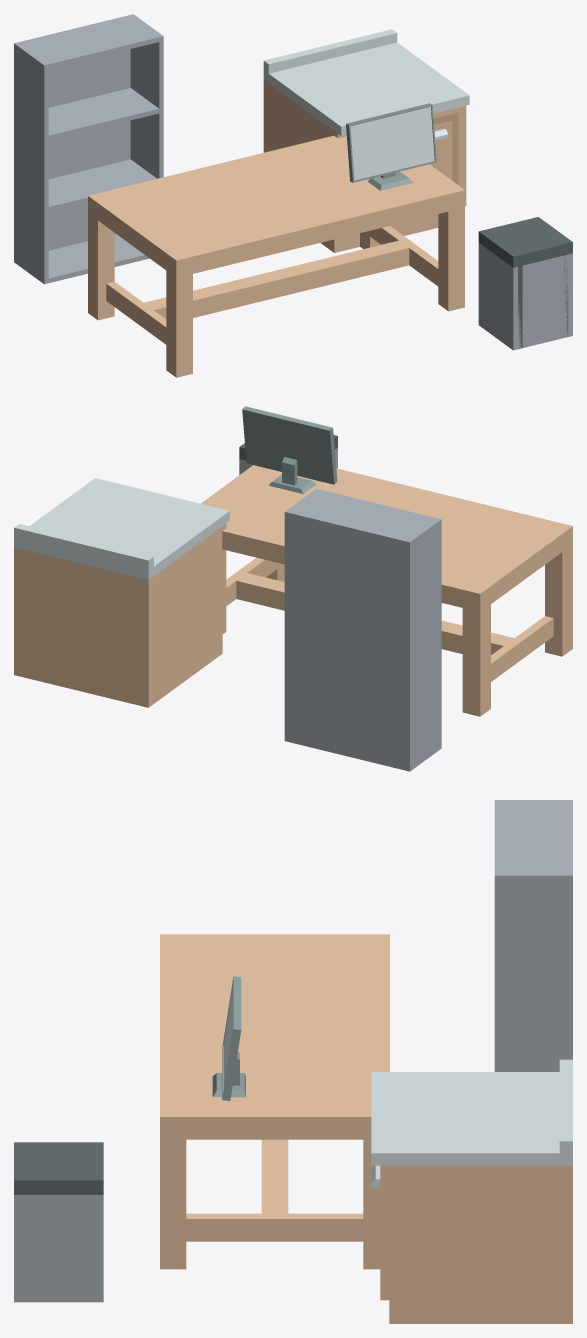
3 views of the same model, one above another, from view 1: azimuth 30°, elevation 25°; view 2: azimuth 150°, elevation 25°; view 3: azimuth 270°, elevation 25° (orthographic). The views are drawn at different scales.
Parts seen in each view (by area): view 1: table_green__table(Clone), cabinet_blue__kitchenCabinet(Clone), shelf_orange__shelf_orange back, shelf_orange__shelf_orange side_l, bin_gray__bin_gray shell, monitor_gray__computerScreen(Clone), shelf_orange__shelf_orange side_r, shelf_orange__shelf_orange board3, shelf_orange__shelf_orange board2, bin_gray__bin_gray lid, shelf_orange__shelf_orange board1, shelf_orange__shelf_orange board0 (+2 smaller); view 2: cabinet_blue__kitchenCabinet(Clone), table_green__table(Clone), shelf_orange__shelf_orange back, shelf_orange__shelf_orange side_l, monitor_gray__computerScreen(Clone), shelf_orange__shelf_orange board3, shelf_orange__shelf_orange side_r; view 3: table_green__table(Clone), cabinet_blue__kitchenCabinet(Clone), shelf_orange__shelf_orange side_r, bin_gray__bin_gray shell, shelf_orange__shelf_orange board3, bin_gray__bin_gray lid, monitor_gray__computerScreen(Clone).
Part boxes in pixels (box(x1,y1,x2,y2)): table_green__table(Clone): box(88, 135, 464, 377); cabinet_blue__kitchenCabinet(Clone): box(263, 29, 469, 252); shelf_orange__shelf_orange back: box(19, 15, 130, 250); shelf_orange__shelf_orange side_l: box(14, 42, 48, 284); bin_gray__bin_gray shell: box(478, 243, 572, 350); monitor_gray__computerScreen(Clone): box(346, 103, 436, 190); shelf_orange__shelf_orange side_r: box(129, 14, 163, 178); shelf_orange__shelf_orange board3: box(20, 16, 159, 68); shelf_orange__shelf_orange board2: box(48, 88, 159, 140); bin_gray__bin_gray lid: box(478, 217, 572, 267); shelf_orange__shelf_orange board1: box(48, 159, 156, 211); shelf_orange__shelf_orange board0: box(48, 234, 149, 282); cabinet_blue__kitchenCabinet(Clone): box(14, 478, 229, 707); table_green__table(Clone): box(201, 465, 572, 716); shelf_orange__shelf_orange back: box(289, 511, 406, 770); shelf_orange__shelf_orange side_l: box(405, 518, 441, 771); monitor_gray__computerScreen(Clone): box(242, 406, 337, 493); shelf_orange__shelf_orange board3: box(291, 490, 436, 539); shelf_orange__shelf_orange side_r: box(284, 489, 320, 741); table_green__table(Clone): box(160, 934, 389, 1269); cabinet_blue__kitchenCabinet(Clone): box(371, 1059, 572, 1323); shelf_orange__shelf_orange side_r: box(494, 873, 572, 1071); bin_gray__bin_gray shell: box(14, 1195, 103, 1302); shelf_orange__shelf_orange board3: box(494, 803, 568, 872); bin_gray__bin_gray lid: box(14, 1142, 103, 1194); monitor_gray__computerScreen(Clone): box(212, 976, 245, 1100).
Bounding box in the file's own units: 2.53 × 1.4 × 2.49.
